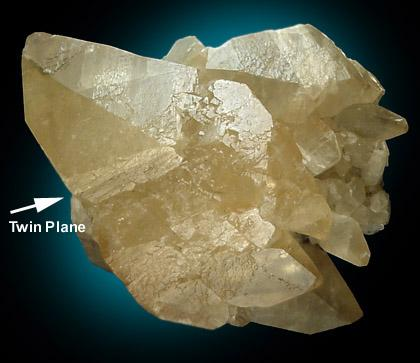calcite: (22, 24, 409, 334)
